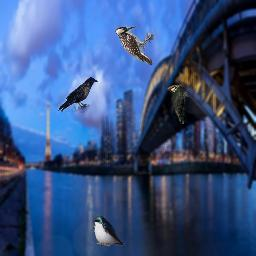Crow: (58, 77, 98, 113)
Swallow: (92, 215, 126, 246)
Woodpecker: (115, 26, 155, 65), (167, 84, 189, 124)
